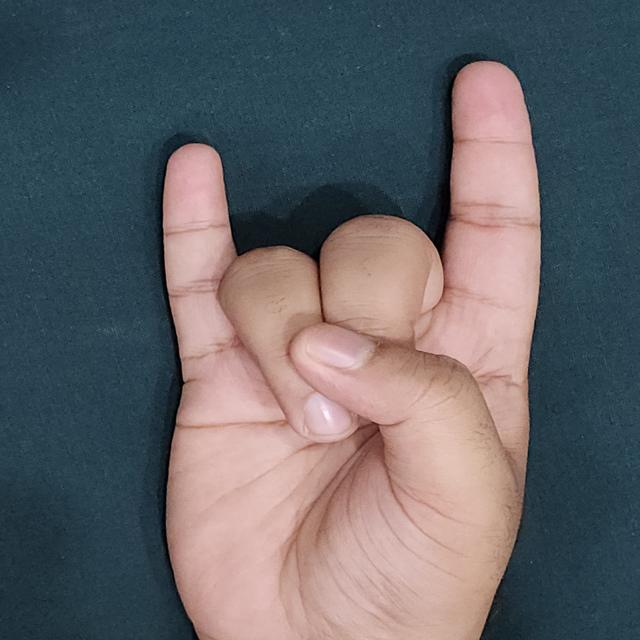ا: (156, 52, 552, 640)
